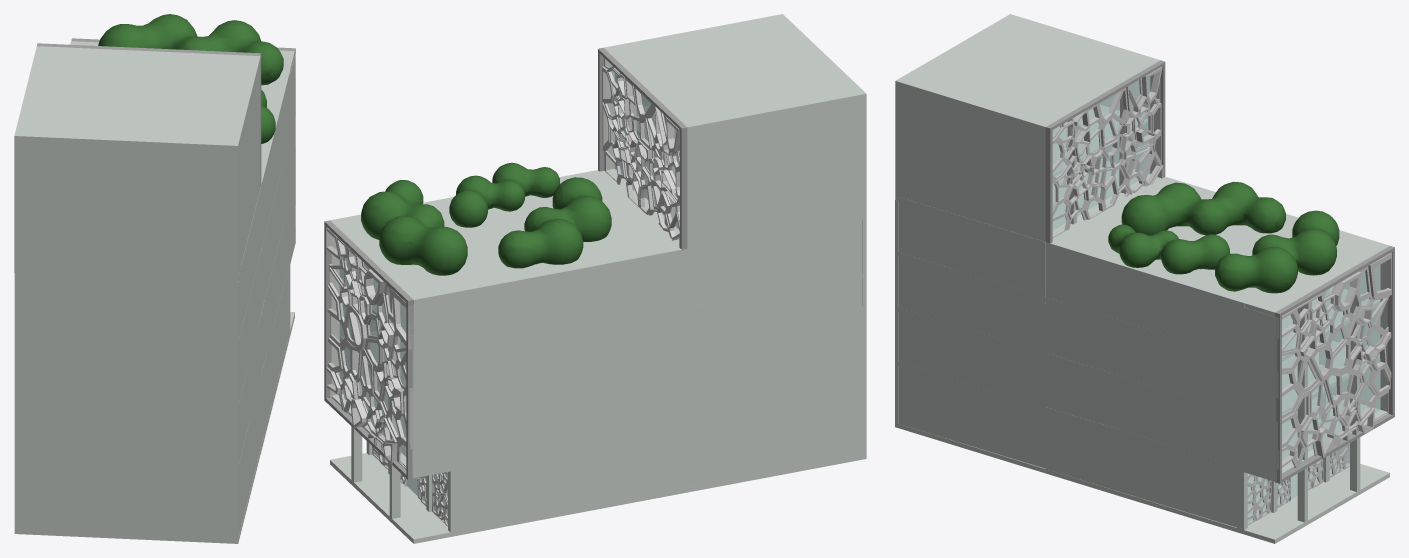
3 renders of one model, left to right at view 1: azimuth 30°, elevation 25°; view 2: azimuth 150°, elevation 25°; view 3: azimuth 270°, elevation 25°, orthographic. The views are drawn at different scales.
Parts seen in each view (by area): view 1: SketchUp.680, SketchUp.487, SketchUp.684, SketchUp.679, Mball.002, SketchUp.683, SketchUp.675, SketchUp.486, SketchUp.682, SketchUp.685, Mball.004, SketchUp.681; view 2: SketchUp.677, SketchUp.487, SketchUp.678, SketchUp.582, SketchUp.680, SketchUp.485, Mball.002, Mball.003, SketchUp.488, Mball.004, SketchUp.695, SketchUp.675 (+9 smaller); view 3: SketchUp.487, SketchUp.684, SketchUp.679, SketchUp.582, SketchUp.680, Mball.003, Mball.002, SketchUp.488, SketchUp.486, SketchUp.697, Mball.004, SketchUp.671 (+13 smaller).
Boxes of the visible parts, x1,y1,x2,y2 form: SketchUp.680: (14, 273, 294, 543); SketchUp.487: (14, 41, 294, 282); SketchUp.684: (260, 73, 289, 448); SketchUp.679: (238, 188, 260, 535); Mball.002: (98, 14, 283, 85); SketchUp.683: (14, 242, 294, 472); SketchUp.675: (37, 43, 261, 186); SketchUp.486: (290, 56, 294, 258); SketchUp.682: (15, 183, 293, 409); SketchUp.685: (282, 69, 290, 333); Mball.004: (261, 90, 275, 143); SketchUp.681: (15, 120, 293, 344); SketchUp.677: (448, 248, 687, 532); SketchUp.487: (330, 14, 866, 304); SketchUp.678: (687, 220, 862, 487); SketchUp.582: (326, 228, 413, 478); SketchUp.680: (330, 219, 866, 543); SketchUp.485: (413, 297, 450, 473); Mball.002: (361, 180, 467, 275); Mball.003: (498, 177, 611, 268); SketchUp.488: (602, 58, 679, 247); Mball.004: (449, 162, 559, 227); SketchUp.695: (324, 220, 413, 479); SketchUp.675: (598, 47, 687, 249); SketchUp.487: (895, 14, 1389, 316); SketchUp.684: (1045, 242, 1238, 527); SketchUp.679: (898, 197, 1045, 468); SketchUp.582: (1275, 252, 1391, 482); SketchUp.680: (895, 200, 1389, 543); Mball.003: (1121, 181, 1285, 235); Mball.002: (1215, 210, 1339, 293); SketchUp.488: (1052, 66, 1163, 237); SketchUp.486: (1244, 307, 1274, 477); SketchUp.697: (1282, 264, 1380, 464); Mball.004: (1108, 224, 1229, 274); SketchUp.671: (1052, 77, 1150, 230).
Bounding box in the file's own units: 2.58 × 2.25 × 2.95.
